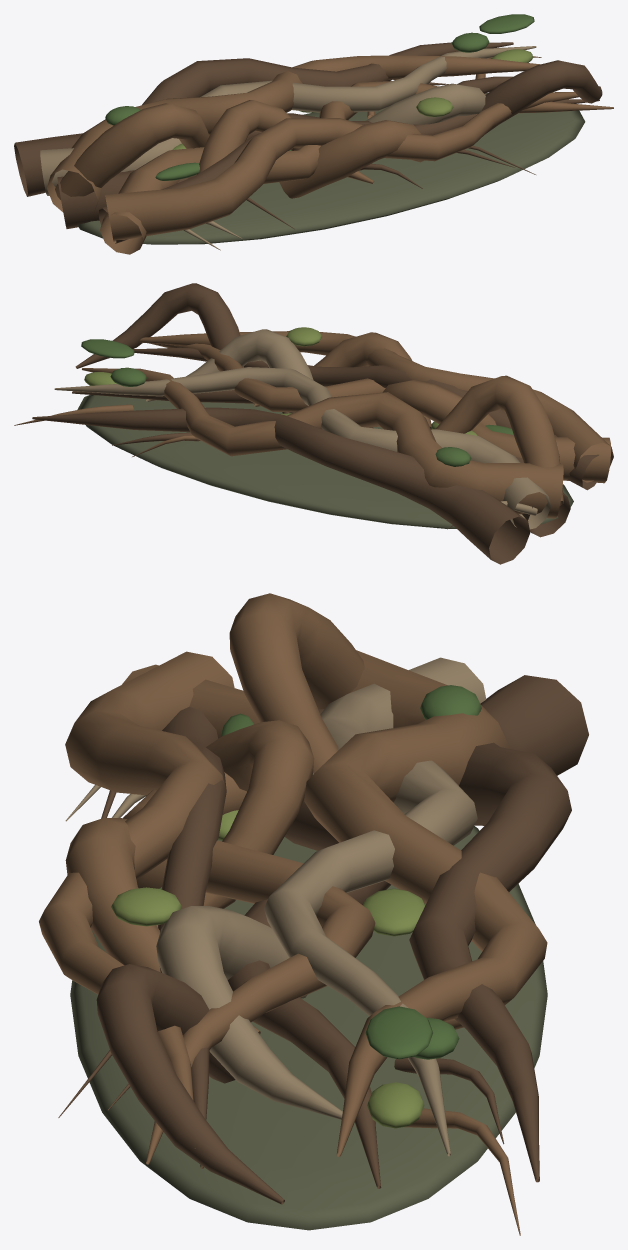
Rendered from raizes_torcidas.glb.
3 views of the same model, one above another, from view 1: azimuth 30°, elevation 25°; view 2: azimuth 150°, elevation 25°; view 3: azimuth 270°, elevation 25° (orthographic). The views are drawn at different scales.
Visible parts, largest first — view 1: Brejo | Raiz encharcada | castanho, Lama achatada sob o emaranhado, Brejo | Raiz encharcada | marrom escuro, Brejo | Raiz velha | cinza castanho, Brejo | Musgo de raiz | verde profundo, Brejo | Musgo de raiz | verde oliva; view 2: Brejo | Raiz encharcada | castanho, Brejo | Raiz encharcada | marrom escuro, Lama achatada sob o emaranhado, Brejo | Raiz velha | cinza castanho, Brejo | Musgo de raiz | verde profundo, Brejo | Musgo de raiz | verde oliva; view 3: Brejo | Raiz encharcada | castanho, Brejo | Raiz encharcada | marrom escuro, Lama achatada sob o emaranhado, Brejo | Raiz velha | cinza castanho, Brejo | Musgo de raiz | verde oliva, Brejo | Musgo de raiz | verde profundo.
Part boxes in pixels (<box>): Brejo | Raiz encharcada | castanho: <box>47,55,613,254</box>; Lama achatada sob o emaranhado: <box>77,93,585,244</box>; Brejo | Raiz encharcada | marrom escuro: <box>14,42,602,243</box>; Brejo | Raiz velha | cinza castanho: <box>40,46,536,250</box>; Brejo | Musgo de raiz | verde profundo: <box>105,14,534,180</box>; Brejo | Musgo de raiz | verde oliva: <box>172,49,533,149</box>; Brejo | Raiz encharcada | castanho: <box>14,331,613,518</box>; Brejo | Raiz encharcada | marrom escuro: <box>32,283,598,564</box>; Lama achatada sob o emaranhado: <box>77,395,573,528</box>; Brejo | Raiz velha | cinza castanho: <box>54,329,551,529</box>; Brejo | Musgo de raiz | verde profundo: <box>81,339,513,466</box>; Brejo | Musgo de raiz | verde oliva: <box>84,327,477,435</box>; Brejo | Raiz encharcada | castanho: <box>39,593,547,1235</box>; Brejo | Raiz encharcada | marrom escuro: <box>58,675,588,1204</box>; Lama achatada sob o emaranhado: <box>70,826,547,1230</box>; Brejo | Raiz velha | cinza castanho: <box>65,657,486,1156</box>; Brejo | Musgo de raiz | verde oliva: <box>111,773,425,1128</box>; Brejo | Musgo de raiz | verde profundo: <box>159,685,481,1059</box>.
Size of the model in its own units: 1.79 by 0.4154 by 0.8299.
